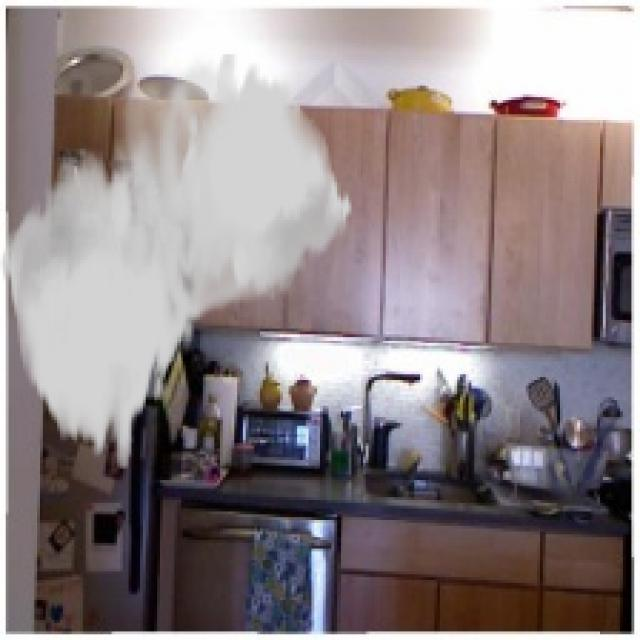smoke: (0, 51, 355, 469)
